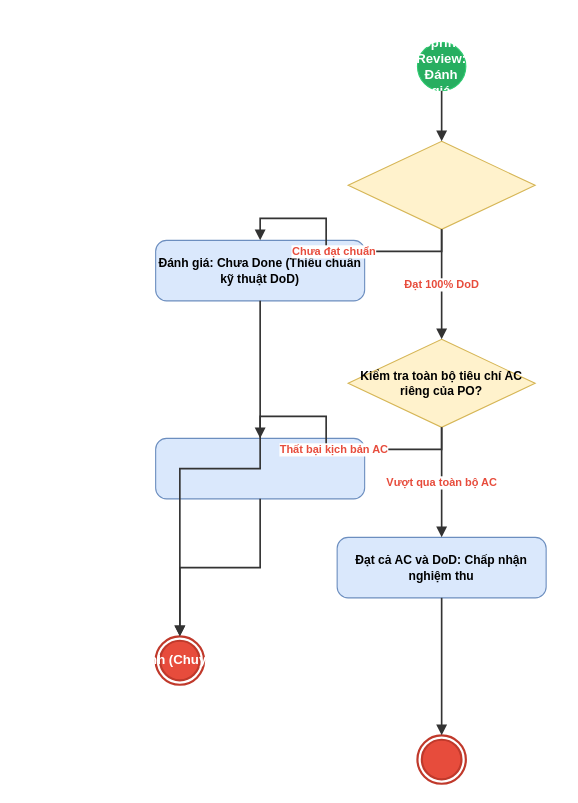
Some shapes in this 578 by 803 pixel diagram are drawn without their labels. Each missing label, with the box of its shape:
Kiểm tra toàn bộ tiêu chí DoD chung?: (347, 140, 535, 229)
Story Hoàn thành (Release sẵn sàng): (416, 734, 466, 784)
Đánh giá: Chưa Done (Lỗi kiểm thử nghiệp vụ AC): (155, 437, 365, 499)
